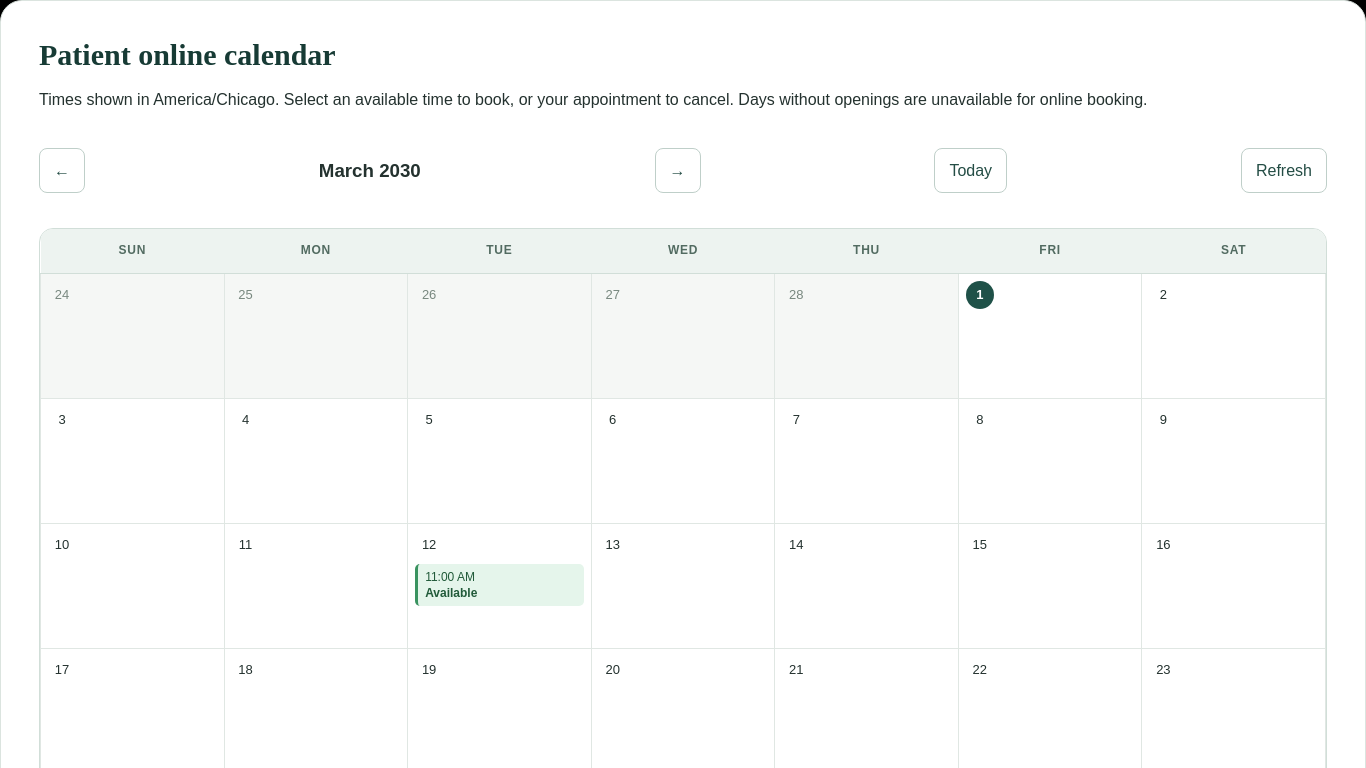
it: month arrows request complete month and do not silently truncate to 21 days
Expected: the text "Available" is shown, top-left (425, 586), bottom-right (477, 600)
Click the button named "Next month". click: click(678, 171)
box: top-left (655, 148), bottom-right (701, 194)
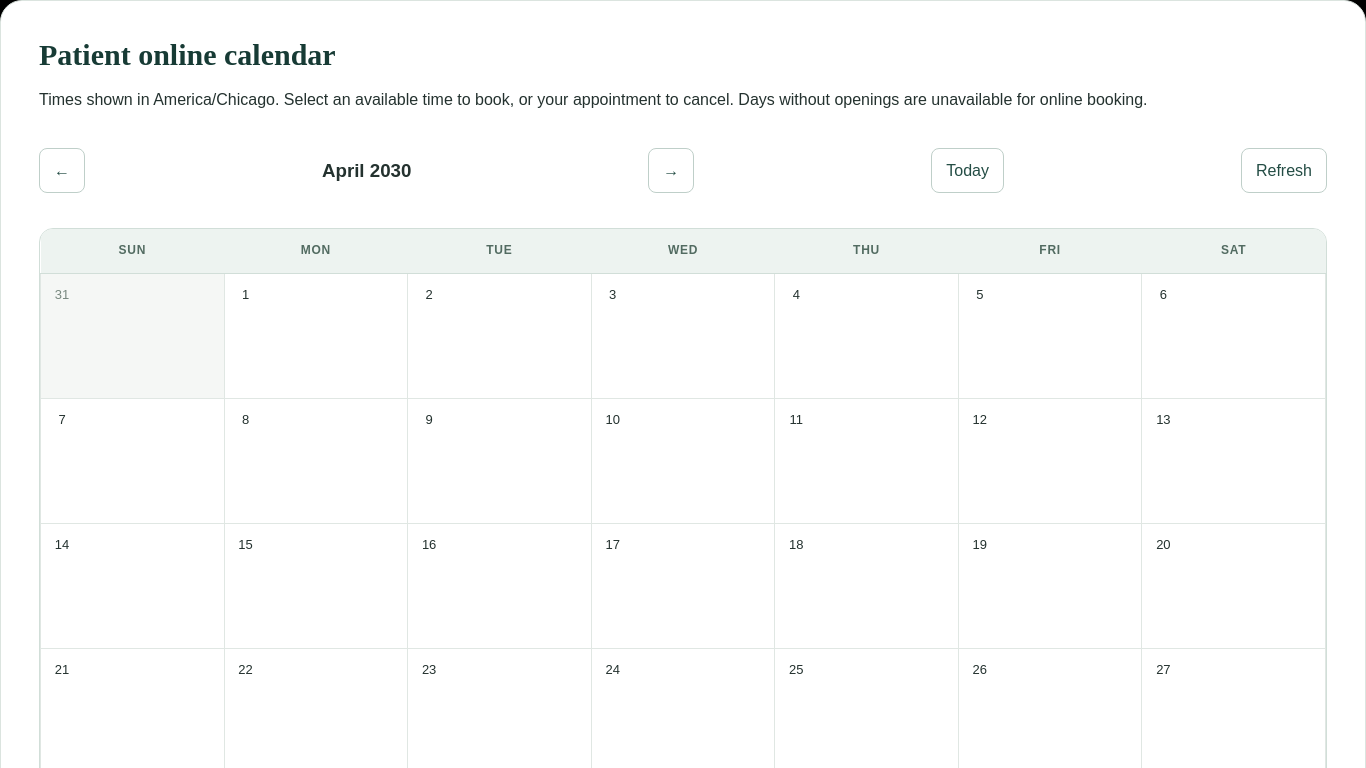
Now the heading "April 2030" is shown, box top-left (322, 156), bottom-right (411, 186)
